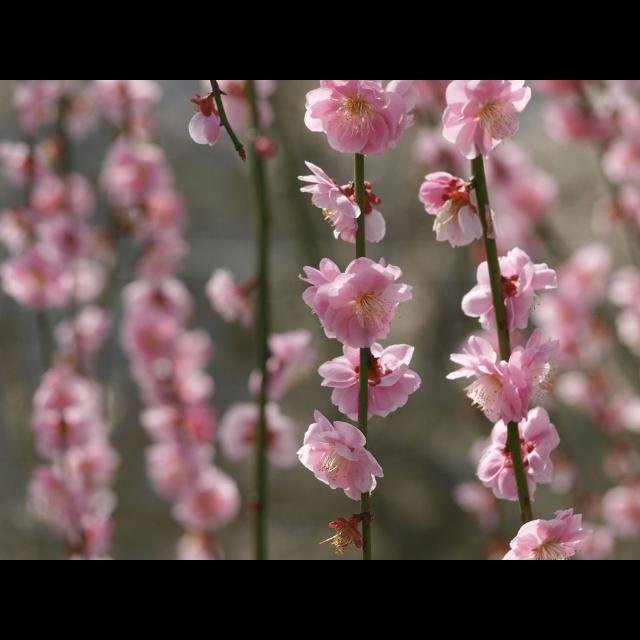Flower: (1, 80, 640, 560), (300, 418, 388, 512)
